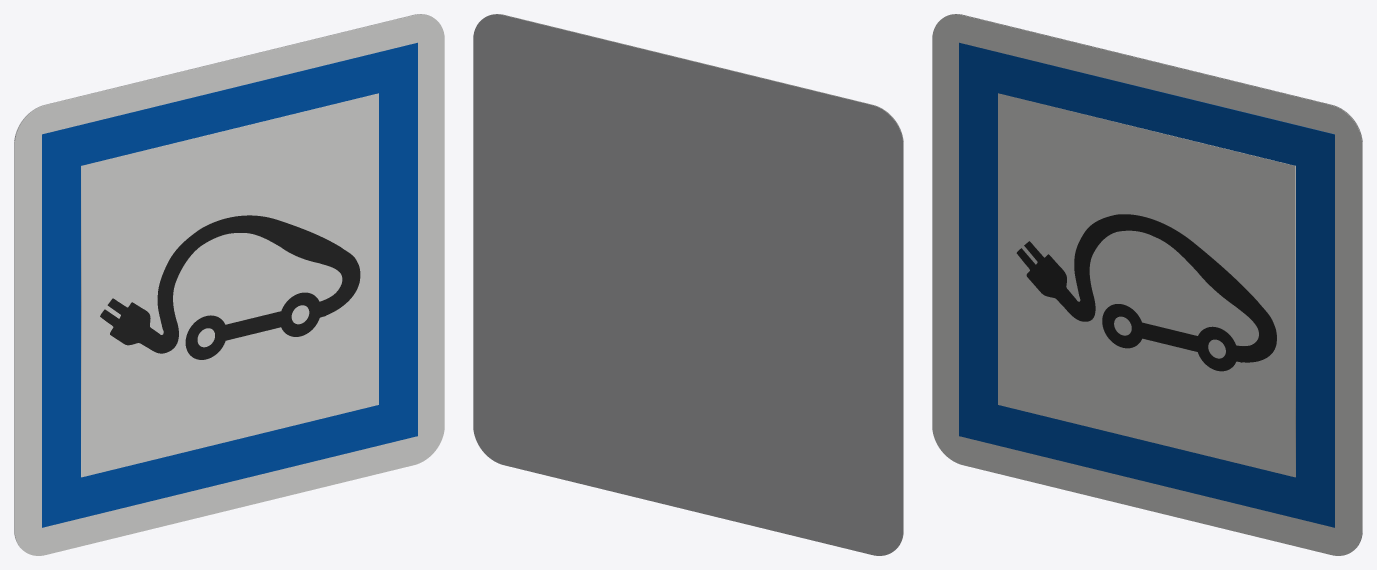
The picture shows the model from 3 angles, left to right: view 1: azimuth 30°, elevation 25°; view 2: azimuth 150°, elevation 25°; view 3: azimuth 330°, elevation 25°; orthographic projection.
Parts seen in each view (by area): view 1: CE15i_p02, CE15i_p01, CE15i_p00, CE15i_p03, CE15i_dos; view 2: CE15i_dos, CE15i_p00; view 3: CE15i_p02, CE15i_p01, CE15i_p00, CE15i_p03, CE15i_dos.
Part boxes in pixels (bbox=[...]): CE15i_p02: bbox=[81, 93, 378, 477]; CE15i_p01: bbox=[42, 42, 417, 527]; CE15i_p00: bbox=[14, 14, 444, 555]; CE15i_p03: bbox=[100, 215, 360, 359]; CE15i_dos: bbox=[14, 14, 431, 547]; CE15i_dos: bbox=[473, 14, 903, 555]; CE15i_p00: bbox=[486, 14, 903, 547]; CE15i_p02: bbox=[998, 93, 1295, 477]; CE15i_p01: bbox=[959, 42, 1334, 527]; CE15i_p00: bbox=[932, 14, 1362, 555]; CE15i_p03: bbox=[1016, 214, 1276, 371]; CE15i_dos: bbox=[945, 14, 1362, 547].
Bounding box in the file's own units: 0.7 × 0.6999 × 0.0031.
